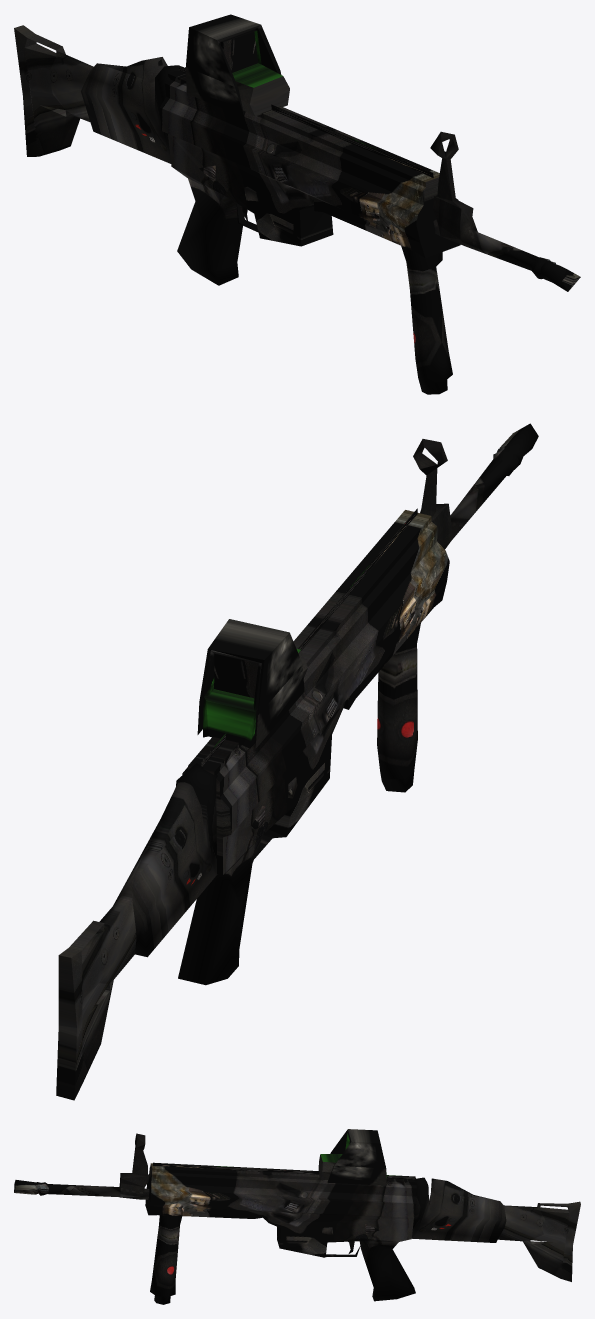
Rendered from shotgun.obj.
3 renders of one model, top to bottom at view 1: azimuth 30°, elevation 25°; view 2: azimuth 150°, elevation 25°; view 3: azimuth 270°, elevation 25°, orthographic. The views are drawn at different scales.
Parts seen in each view (by area): view 1: Plane; view 2: Plane; view 3: Plane.
Boxes of the visible parts, x1=… form: Plane: x1=14, y1=14, x2=580, y2=394; Plane: x1=56, y1=423, x2=538, y2=1100; Plane: x1=14, y1=1129, x2=580, y2=1304.
Size of the model in its own units: 0.4317 by 1.15 by 3.45.
